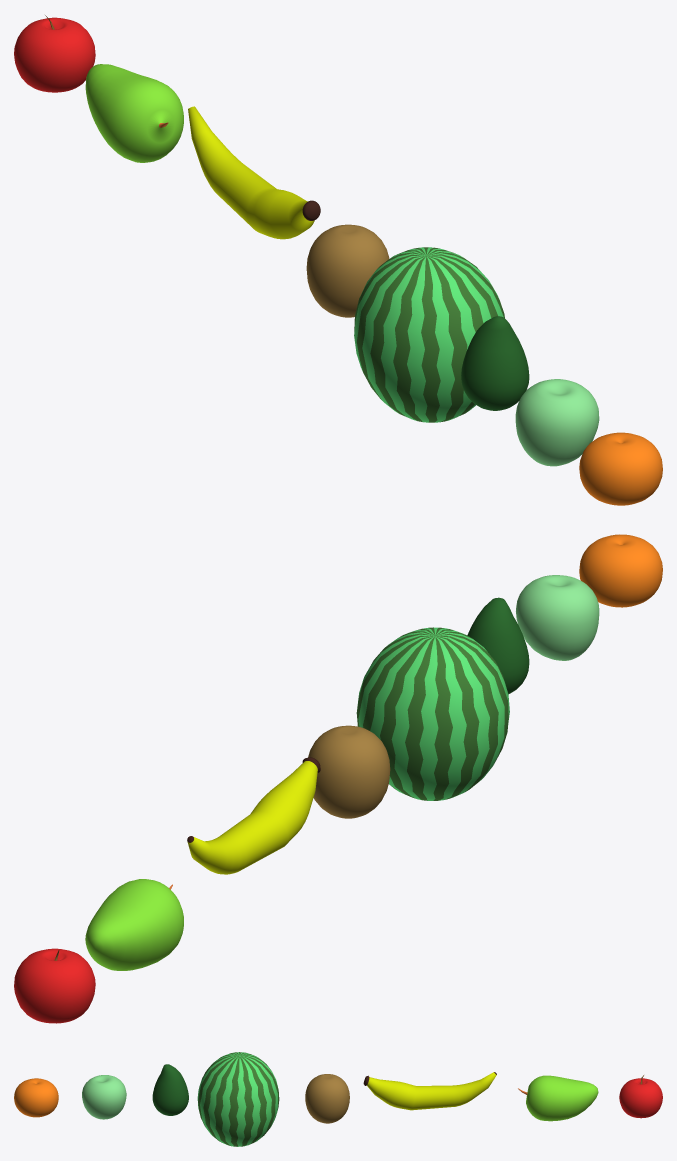
Rendered from Fruits.fbx.
3 renders of one model, top to bottom at view 1: azimuth 30°, elevation 25°; view 2: azimuth 150°, elevation 25°; view 3: azimuth 270°, elevation 25°, orthographic. The views are drawn at different scales.
Visible parts, largest first — view 1: watermelon, mango, banana, guava, kiwi, orange, apple, avocado; view 2: watermelon, mango, banana, kiwi, guava, apple, orange, avocado; view 3: watermelon, banana, mango, kiwi, guava, apple, orange, avocado.
Part boxes in pixels (box(x1,y1,x2,y2)): watermelon: box(354, 247, 504, 422); mango: box(85, 64, 183, 162); banana: box(188, 106, 320, 239); guava: box(515, 379, 599, 466); kiwi: box(306, 224, 389, 317); orange: box(579, 432, 662, 505); apple: box(14, 15, 95, 92); avocado: box(461, 316, 529, 410); watermelon: box(356, 627, 509, 800); mango: box(85, 879, 183, 970); banana: box(187, 757, 320, 874); kiwi: box(308, 725, 390, 818); guava: box(516, 575, 599, 660); apple: box(14, 948, 95, 1023); orange: box(579, 534, 662, 607); avocado: box(467, 597, 529, 694); watermelon: box(197, 1052, 279, 1146); banana: box(363, 1072, 496, 1110); mango: box(518, 1075, 598, 1121); kiwi: box(305, 1074, 349, 1123); guava: box(82, 1075, 126, 1119); apple: box(619, 1075, 662, 1118); orange: box(14, 1078, 58, 1117); avocado: box(152, 1064, 188, 1115).
Bounding box in the file's own units: 365 × 426 × 2898.
